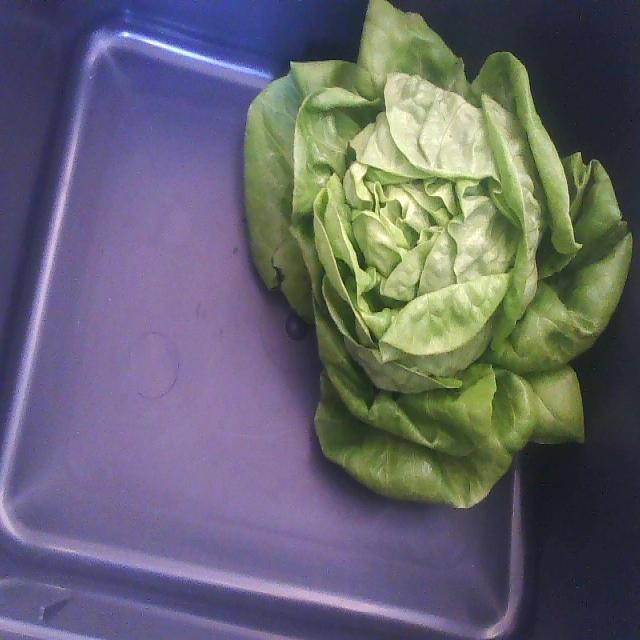lettuce: (245, 0, 631, 508)
